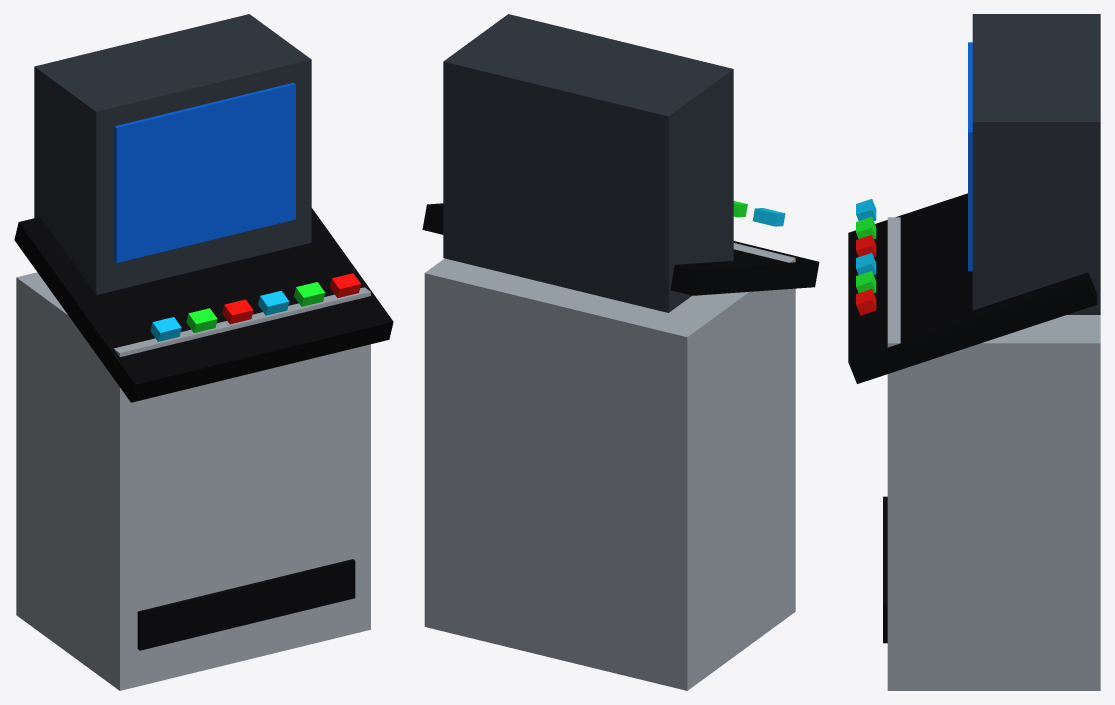
Rendered from computer_terminal.obj.
3 renders of one model, left to right at view 1: azimuth 30°, elevation 25°; view 2: azimuth 150°, elevation 25°; view 3: azimuth 270°, elevation 25°, orthographic. The views are drawn at different scales.
Parts seen in each view (by area): view 1: computer_terminal; view 2: computer_terminal; view 3: computer_terminal.
Boxes of the visible parts, x1,y1,x2,y2 form: computer_terminal: [14, 14, 393, 690]; computer_terminal: [422, 14, 819, 690]; computer_terminal: [848, 14, 1100, 690].
Bounding box in the file's own units: 0.72 × 1.45 × 0.5921.
